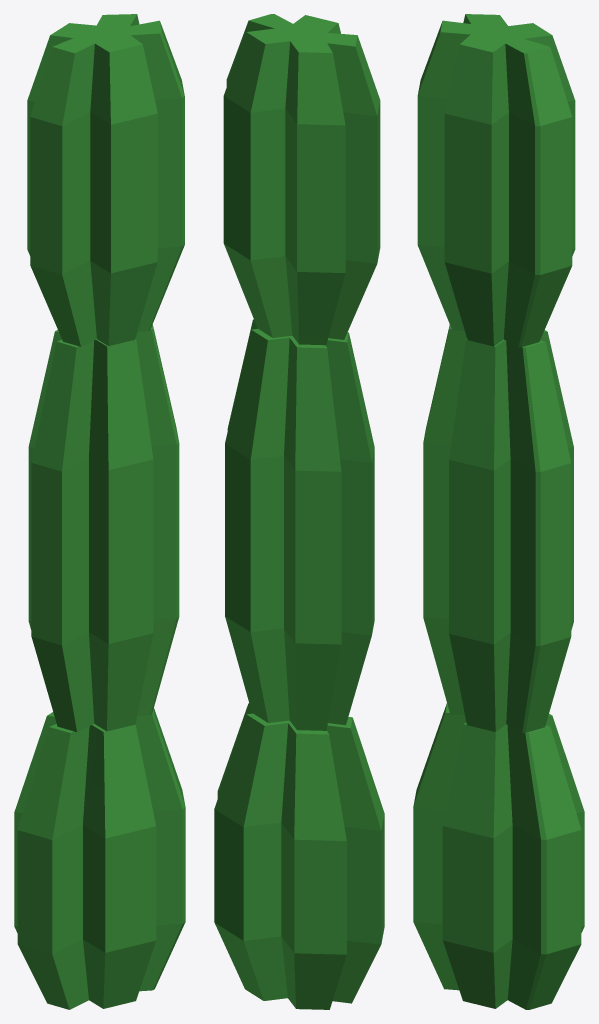
The model's file is Vegetation_Cactus_09.fbx.
The picture shows the model from 3 angles, left to right: view 1: azimuth 30°, elevation 25°; view 2: azimuth 150°, elevation 25°; view 3: azimuth 330°, elevation 25°; orthographic projection.
Parts seen in each view (by area): view 1: Vegetation_Cactus_09; view 2: Vegetation_Cactus_09; view 3: Vegetation_Cactus_09.
Part boxes in pixels (left/top/right/bottom): Vegetation_Cactus_09: left=14, top=14, right=185, bottom=1009; Vegetation_Cactus_09: left=214, top=14, right=384, bottom=1009; Vegetation_Cactus_09: left=413, top=14, right=584, bottom=1009.
Size of the model in its own units: 490 by 2728 by 326.
